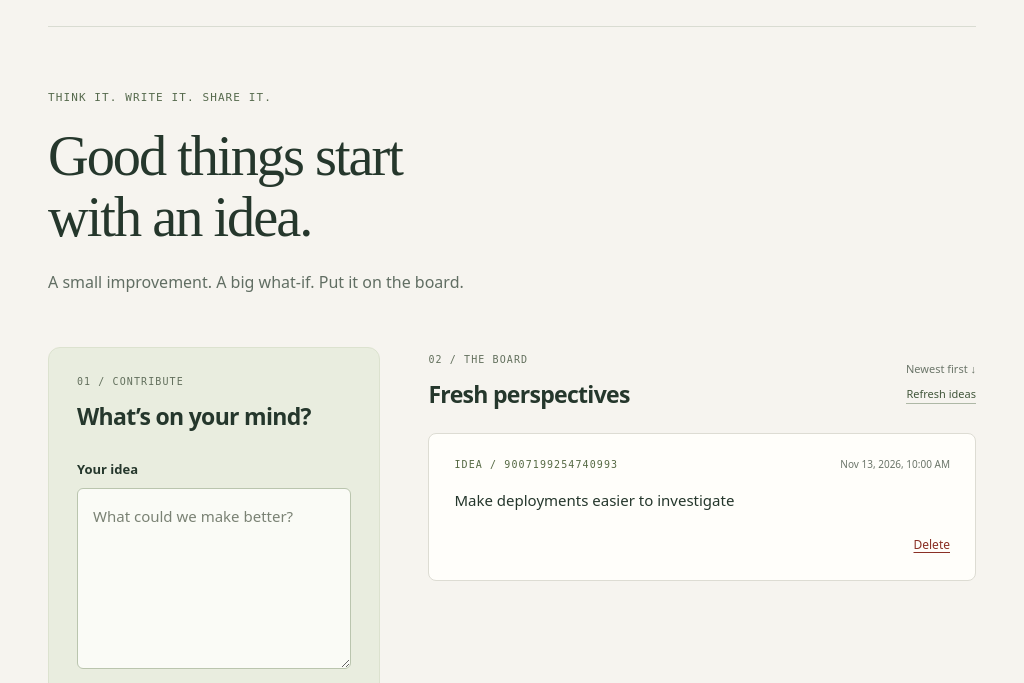
Test: Idea Board › trims a submission and adds the confirmed result first
This screenshot has width=1024, height=683.
Check: the button "Refresh ideas" is enabled, box [906, 386, 976, 404]
Type "  A useful idea  " into the text box labelled "Your idea" at (214, 578), box [77, 488, 351, 669]
(page scrolled)
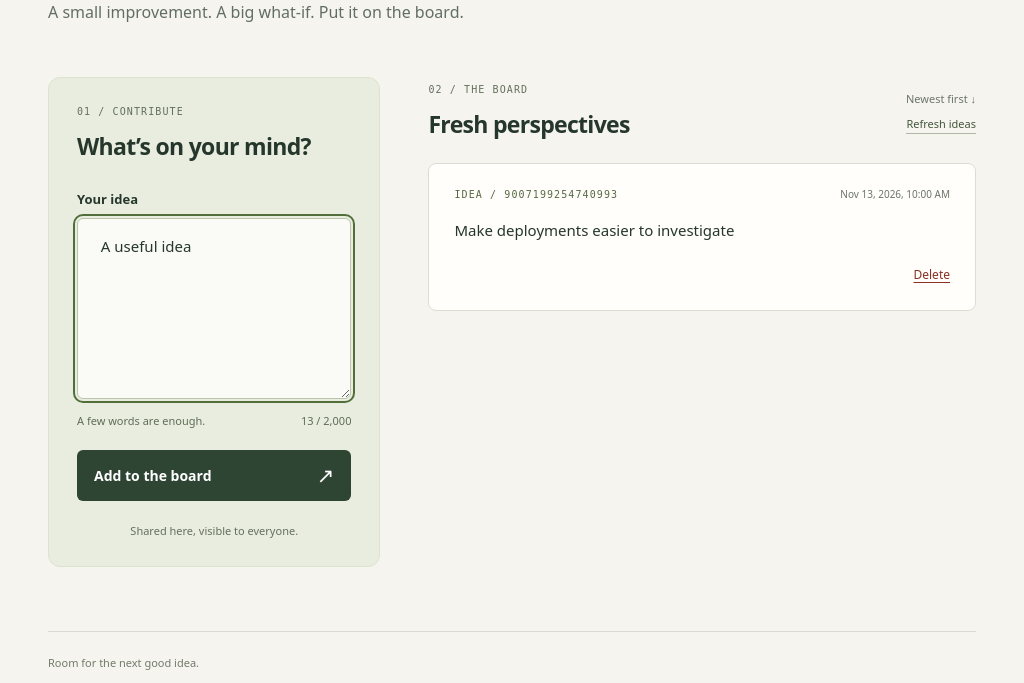
Click the button "Add to the board ↗" at (214, 475), box [77, 450, 351, 501]
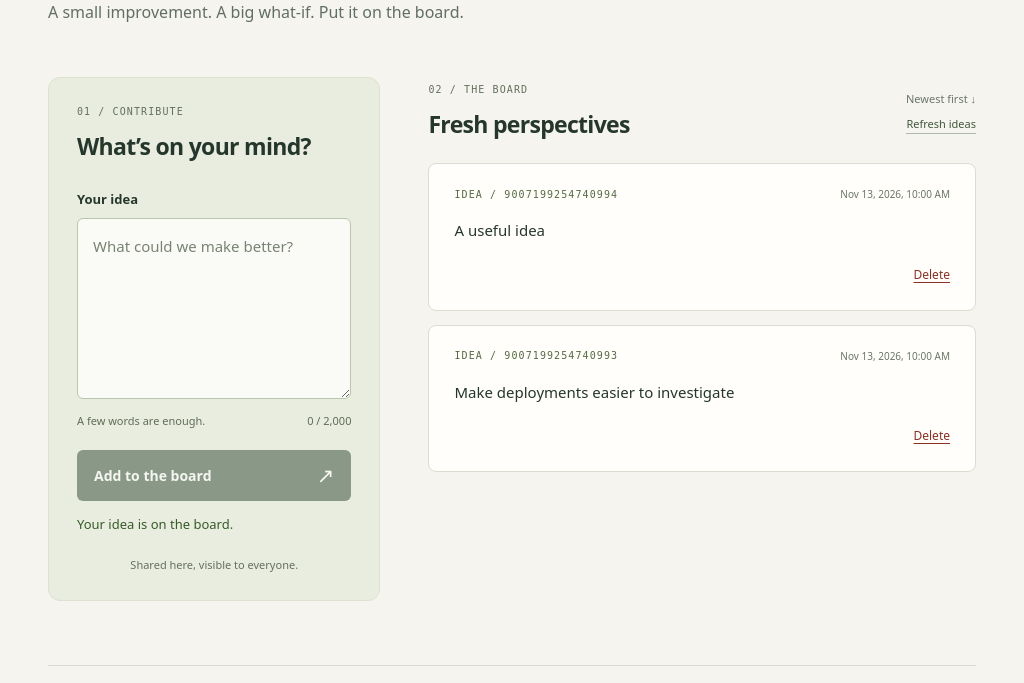
Check: the message "Your idea is on the board." is shown, box [77, 515, 233, 533]
Check: the 1st list item shows "A useful idea", box [454, 220, 545, 240]
Check: the text box labelled "Your idea" is empty, box [77, 218, 351, 399]
